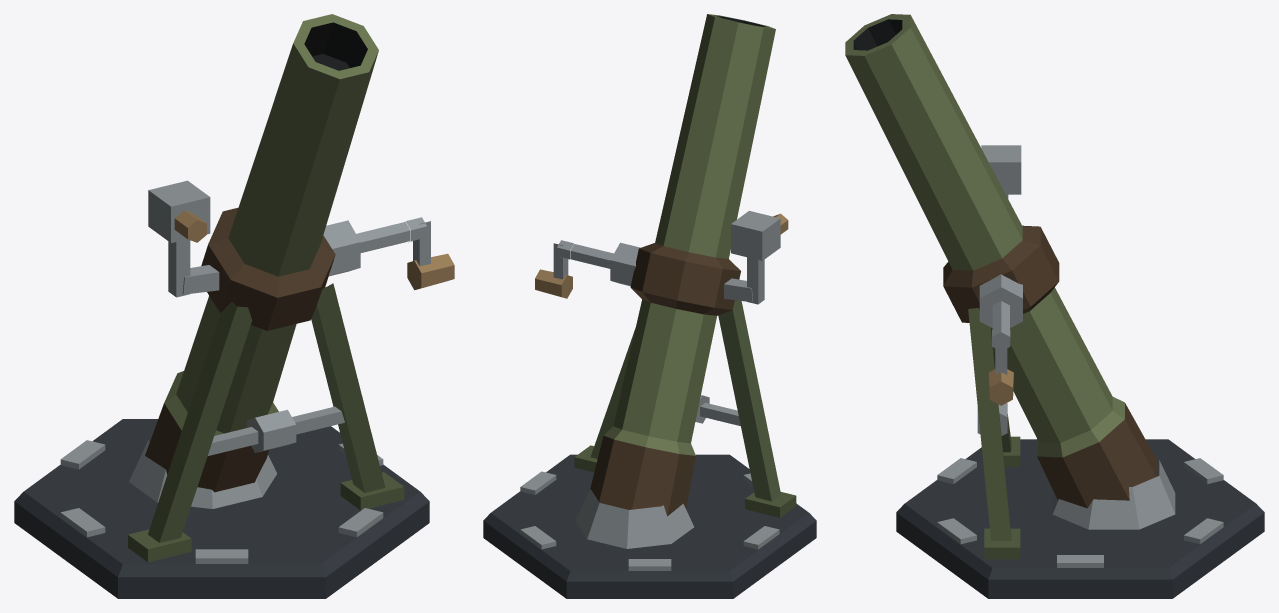
Rendered from infantry-mortar-5b6799.glb.
The picture shows the model from 3 angles, left to right: view 1: azimuth 30°, elevation 25°; view 2: azimuth 150°, elevation 25°; view 3: azimuth 270°, elevation 25°; orthographic projection. The views are drawn at different scales.
Parts seen in each view (by area): view 1: mortar-body, sight-mesh, crank-mesh; view 2: mortar-body, sight-mesh, crank-mesh; view 3: mortar-body, crank-mesh, sight-mesh.
Boxes of the visible parts, x1=… form: mortar-body: x1=14, y1=14, x2=429, y2=598; sight-mesh: x1=148, y1=180, x2=219, y2=297; crank-mesh: x1=405, y1=217, x2=454, y2=290; mortar-body: x1=483, y1=14, x2=816, y2=598; sight-mesh: x1=724, y1=210, x2=788, y2=304; crank-mesh: x1=535, y1=240, x2=573, y2=298; mortar-body: x1=845, y1=14, x2=1264, y2=598; crank-mesh: x1=988, y1=325, x2=1013, y2=405; sight-mesh: x1=981, y1=145, x2=1021, y2=198.
Size of the model in its own units: 0.6188 by 1.01 by 0.7512.
